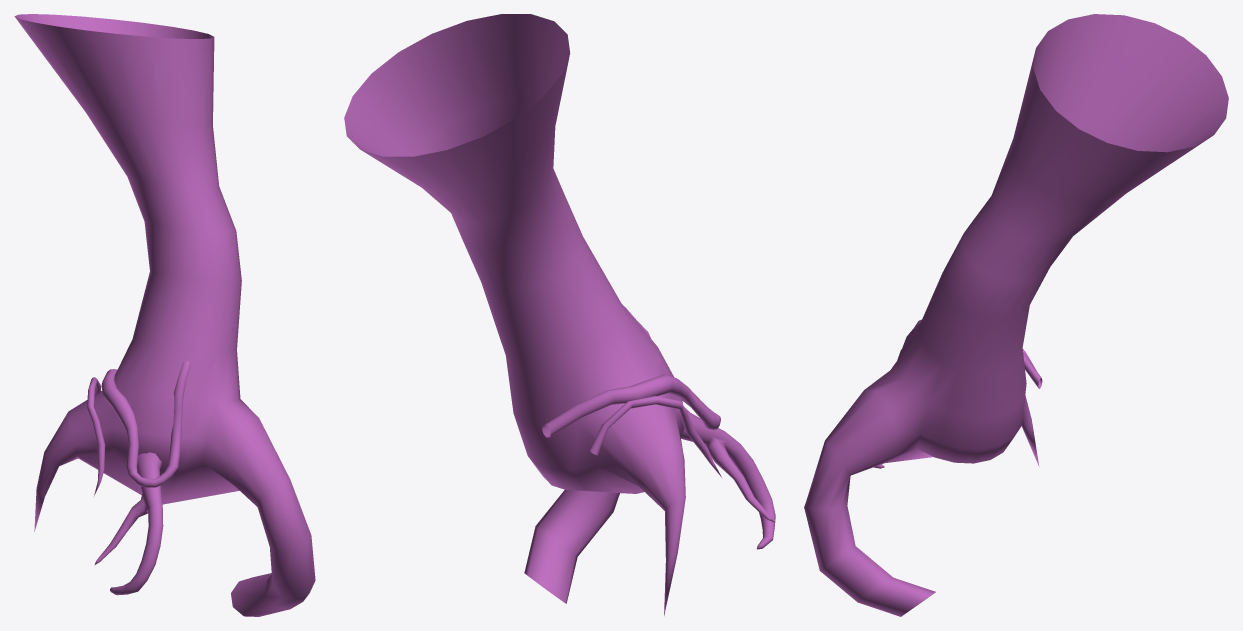
File: CloseTree.fbx
3 views of the same model, side by side, from view 1: azimuth 30°, elevation 25°; view 2: azimuth 150°, elevation 25°; view 3: azimuth 270°, elevation 25° (orthographic). The views are drawn at different scales.
Visible parts, largest first — view 1: Tree_Root7; view 2: Tree_Root7; view 3: Tree_Root7.
Boxes of the visible parts, bbox=[...] form: Tree_Root7: bbox=[14, 14, 315, 616]; Tree_Root7: bbox=[344, 14, 775, 615]; Tree_Root7: bbox=[804, 14, 1228, 616].
Size of the model in its own units: 5.45 by 12.72 by 8.86.
